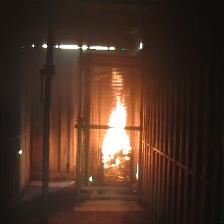fire: (101, 68, 132, 169)
